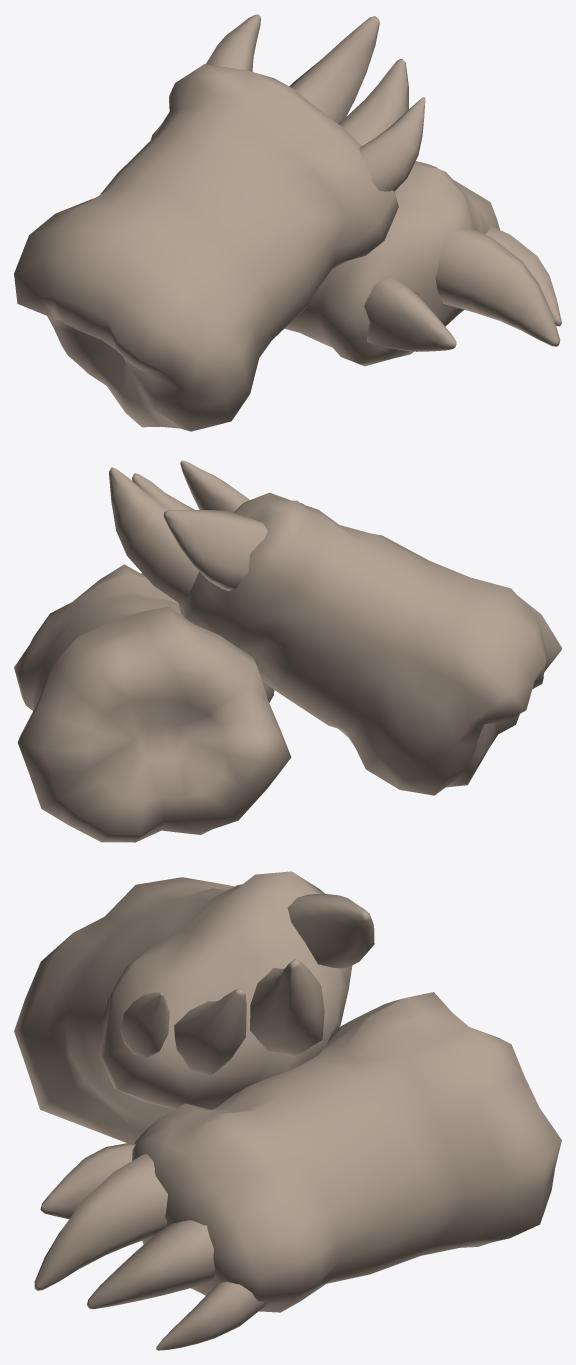
Rendered from separatedPieces10_hands.fbx.
3 renders of one model, top to bottom at view 1: azimuth 30°, elevation 25°; view 2: azimuth 150°, elevation 25°; view 3: azimuth 270°, elevation 25°, orthographic. The views are drawn at different scales.
Visible parts, largest first — view 1: separatedPieces05_LOD0; view 2: separatedPieces05_LOD0; view 3: separatedPieces05_LOD0.
Part boxes in pixels (x1,y1,x2,y2): separatedPieces05_LOD0: (14, 14, 561, 431); separatedPieces05_LOD0: (14, 460, 561, 842); separatedPieces05_LOD0: (14, 871, 561, 1350).
Size of the model in its own units: 70.15 by 39.85 by 59.17.
